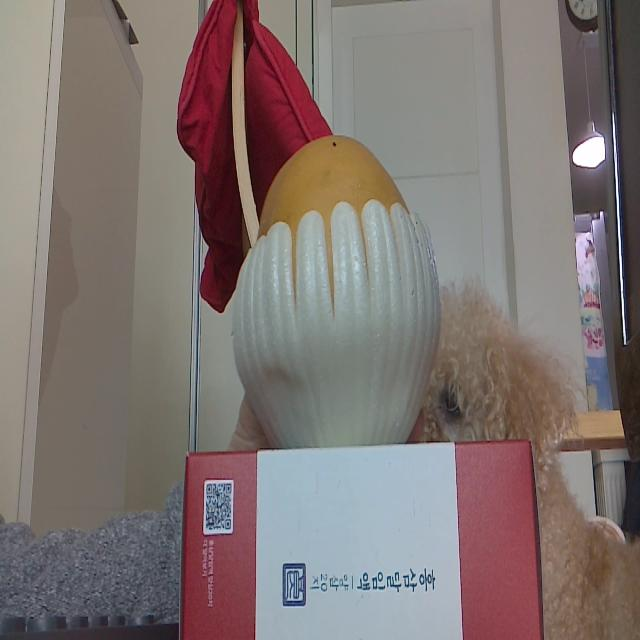pear: (232, 138, 440, 442)
